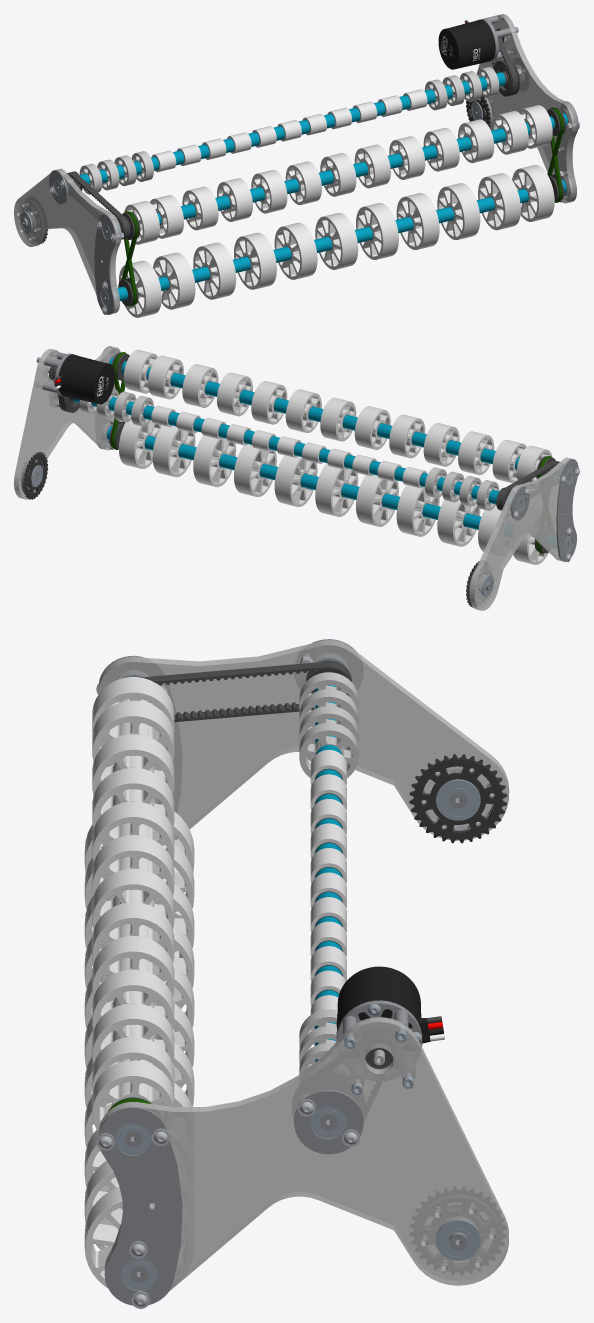
3 renders of one model, top to bottom at view 1: azimuth 30°, elevation 25°; view 2: azimuth 150°, elevation 25°; view 3: azimuth 270°, elevation 25°, orthographic. The views are drawn at different scales.
Parts seen in each view (by area): view 1: am-3946 3IN 500Hex Molded Compliant Wheel VER 2 (×11), am-3949 2.25N OverMolded 500Hex Compliant Wheel V6 (×13), Assembly 1, 1.625" OD 30A Straight Flex Wheel (217-6350) (×8), NEO Brushless Motor V1.1 (REV-21-1650), Polycord (×2), 75T HTD5 Belt, 45T HTD5 Belt; view 2: am-3946 3IN 500Hex Molded Compliant Wheel VER 2 (×11), am-3949 2.25N OverMolded 500Hex Compliant Wheel V6 (×13), Assembly 1, am-4541 Sushi Roller 500 Hex Bore (×11), 1.625" OD 30A Straight Flex Wheel (217-6350) (×6), NEO Brushless Motor V1.1 (REV-21-1650), 32t Plate 25 Chain Sprocket (217-2690), 75T HTD5 Belt, Polycord; view 3: Assembly 1, am-3949 2.25N OverMolded 500Hex Compliant Wheel V6 (×13), am-3946 3IN 500Hex Molded Compliant Wheel VER 2 (×9), 1.625" OD 30A Straight Flex Wheel (217-6350) (×4), 32t Plate 25 Chain Sprocket (217-2690), NEO Brushless Motor V1.1 (REV-21-1650), Part 9 (×2), 75T HTD5 Belt, .5" Round ID 1.125" OD Flanged Bearing (217-2731) (×2), Part 4, Part 5.
Part boxes in pixels (x1,y1,x2,y2): am-3946 3IN 500Hex Molded Compliant Wheel VER 2 (×11): [119, 165, 554, 317]; am-3949 2.25N OverMolded 500Hex Compliant Wheel V6 (×13): [124, 105, 552, 244]; Assembly 1: [14, 14, 578, 314]; 1.625" OD 30A Straight Flex Wheel (217-6350) (×8): [79, 67, 499, 194]; NEO Brushless Motor V1.1 (REV-21-1650): [438, 19, 505, 69]; Polycord (×2): [121, 107, 563, 306]; 75T HTD5 Belt: [67, 171, 130, 239]; 45T HTD5 Belt: [492, 29, 518, 96]; am-3946 3IN 500Hex Molded Compliant Wheel VER 2 (×11): [119, 419, 548, 564]; am-3949 2.25N OverMolded 500Hex Compliant Wheel V6 (×13): [123, 349, 552, 483]; Assembly 1: [14, 346, 578, 610]; am-4541 Sushi Roller 500 Hex Bore (×11): [151, 405, 426, 488]; 1.625" OD 30A Straight Flex Wheel (217-6350) (×6): [114, 391, 499, 510]; NEO Brushless Motor V1.1 (REV-21-1650): [48, 354, 114, 404]; 32t Plate 25 Chain Sprocket (217-2690): [23, 452, 48, 499]; 75T HTD5 Belt: [497, 460, 559, 510]; Polycord: [111, 352, 126, 449]; Assembly 1: [98, 640, 509, 1305]; am-3949 2.25N OverMolded 500Hex Compliant Wheel V6 (×13): [92, 677, 174, 1131]; am-3946 3IN 500Hex Molded Compliant Wheel VER 2 (×9): [84, 811, 194, 1287]; 1.625" OD 30A Straight Flex Wheel (217-6350) (×4): [299, 672, 358, 777]; 32t Plate 25 Chain Sprocket (217-2690): [409, 754, 507, 843]; NEO Brushless Motor V1.1 (REV-21-1650): [336, 966, 444, 1065]; Part 9 (×2): [294, 639, 363, 1154]; 75T HTD5 Belt: [140, 661, 351, 722]; .5" Round ID 1.125" OD Flanged Bearing (217-2731) (×2): [436, 779, 480, 1260]; Part 4: [417, 1197, 499, 1271]; Part 5: [336, 1000, 422, 1046].
Size of the model in its own units: 0.7522 by 0.2313 by 0.2954.
